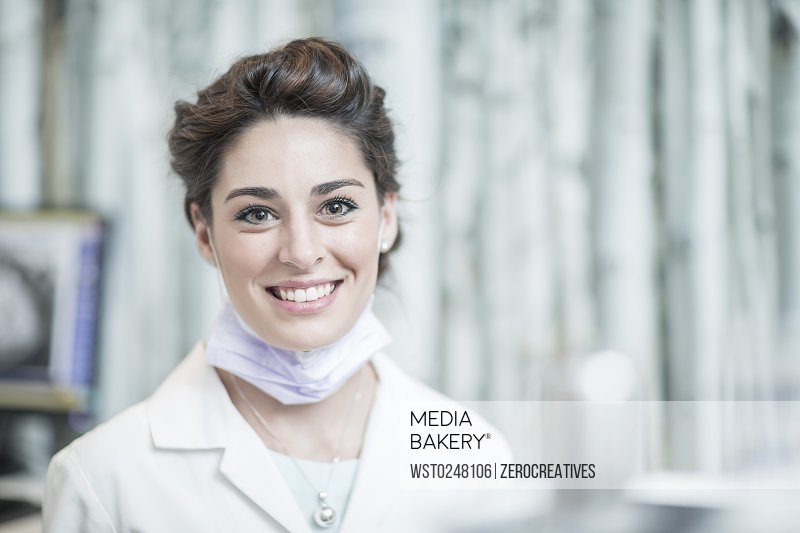mask_weared_incorrect: (189, 143, 399, 412)
